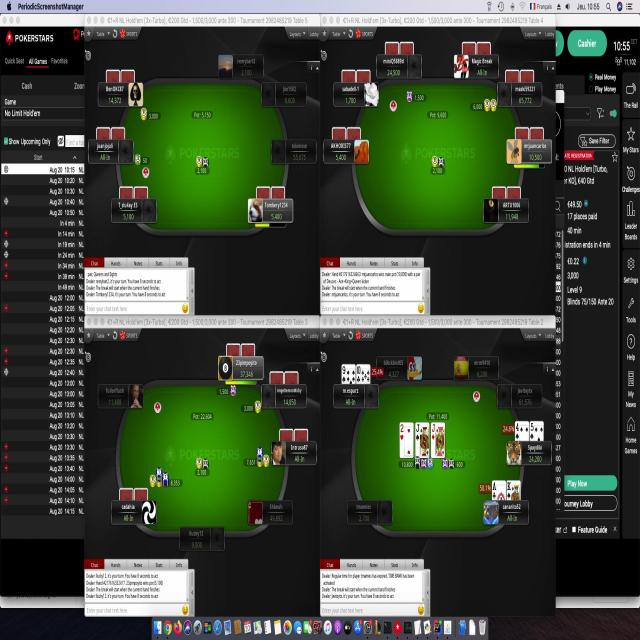10C: (356, 363, 362, 383)
2H: (399, 422, 405, 442)
4S: (514, 421, 521, 439)
5S: (528, 422, 534, 438)
9S: (341, 363, 347, 382)
AC: (491, 480, 497, 499)
JD: (430, 423, 437, 442)
JS: (415, 421, 422, 441)
KS: (506, 481, 512, 497)
